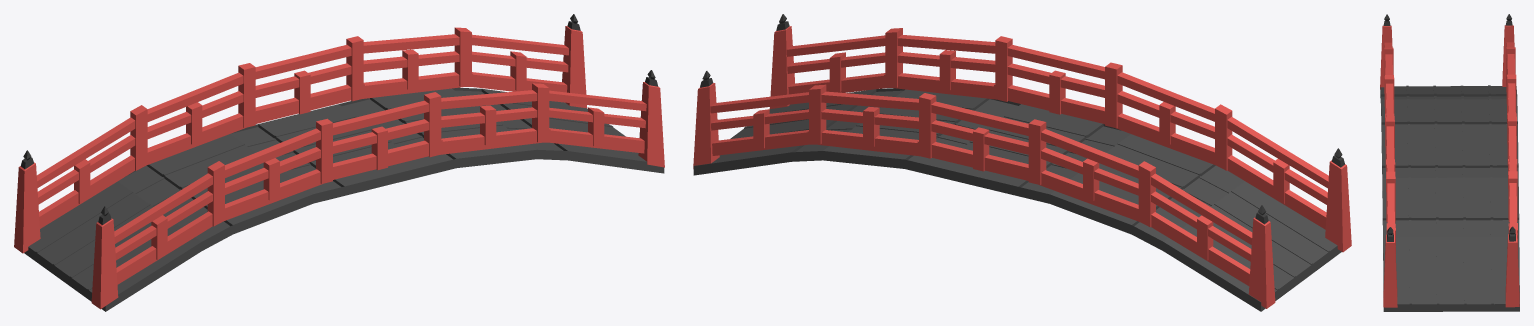
Rendered from Bridge_SM.fbx.
The picture shows the model from 3 angles, left to right: view 1: azimuth 30°, elevation 25°; view 2: azimuth 150°, elevation 25°; view 3: azimuth 270°, elevation 25°; orthographic projection. The views are drawn at different scales.
Visible parts, largest first — view 1: Bridge_SM; view 2: Bridge_SM; view 3: Bridge_SM.
Boxes of the visible parts, left/top/right/bottom form: Bridge_SM: left=14, top=14, right=664, bottom=311; Bridge_SM: left=693, top=14, right=1351, bottom=311; Bridge_SM: left=1380, top=14, right=1519, bottom=311.
Bounding box in the file's own units: 690 × 152 × 185.
